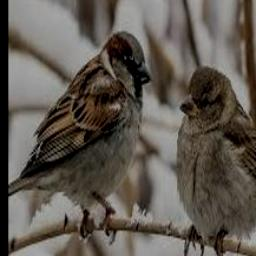Sparrow: (8, 30, 151, 245), (176, 65, 256, 256)
